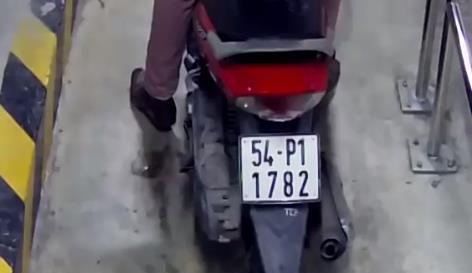lisence: (239, 134, 320, 201)
